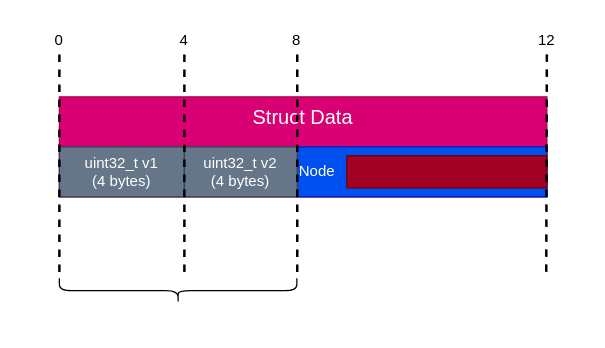
Some shapes in this 605 by 348 pixel diagram are drawn without their labels. The shapes that lost their labels are listed below. From the top down, each one's centre as x and y in pixels, then its label:
At [446,171]: "Pointer (4 bytes)".
At [177,290]: "Offset (8 bytes)".
